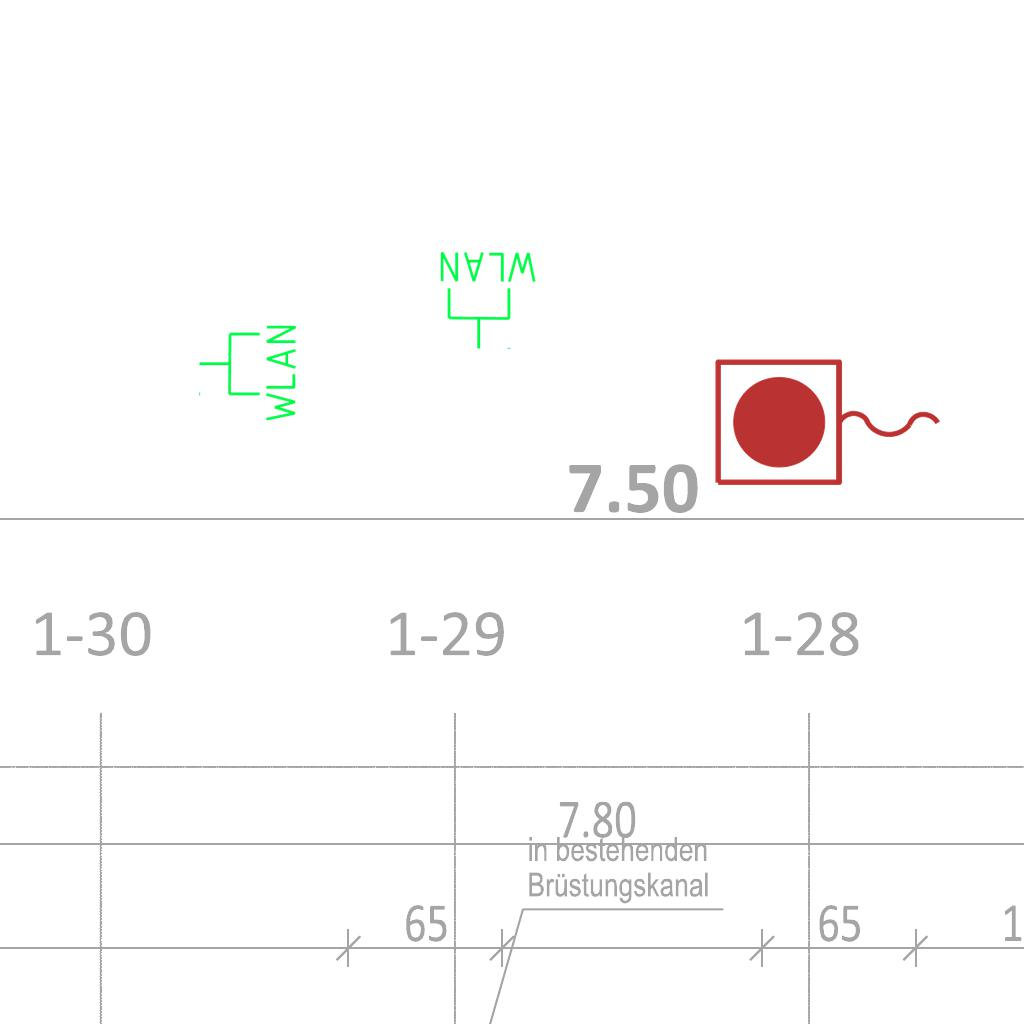WLAN: (196, 321, 300, 426), (436, 248, 541, 352)
Zugtaster: (707, 352, 951, 496)
